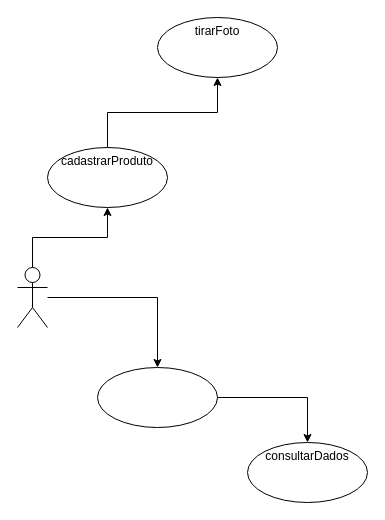
Image size: 385x520. Some labels were removed from this diagram. Here are the shapes that lost their labels. From the top down, the box of each, then its label:
(16, 266, 48, 328): Actor
(96, 366, 218, 428): ConsultarProduto
